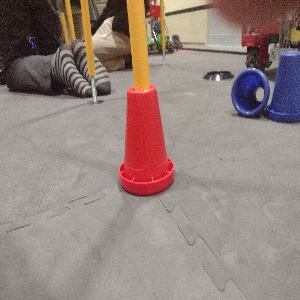Blue_1: (268, 43, 299, 124), (229, 62, 270, 117)
Red_1: (118, 83, 174, 197)
